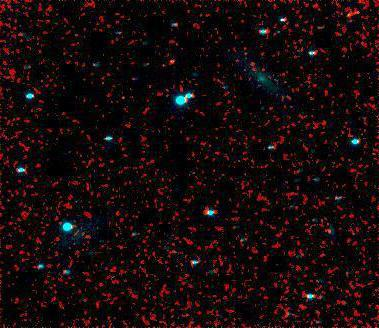star: (109, 84, 139, 114)
